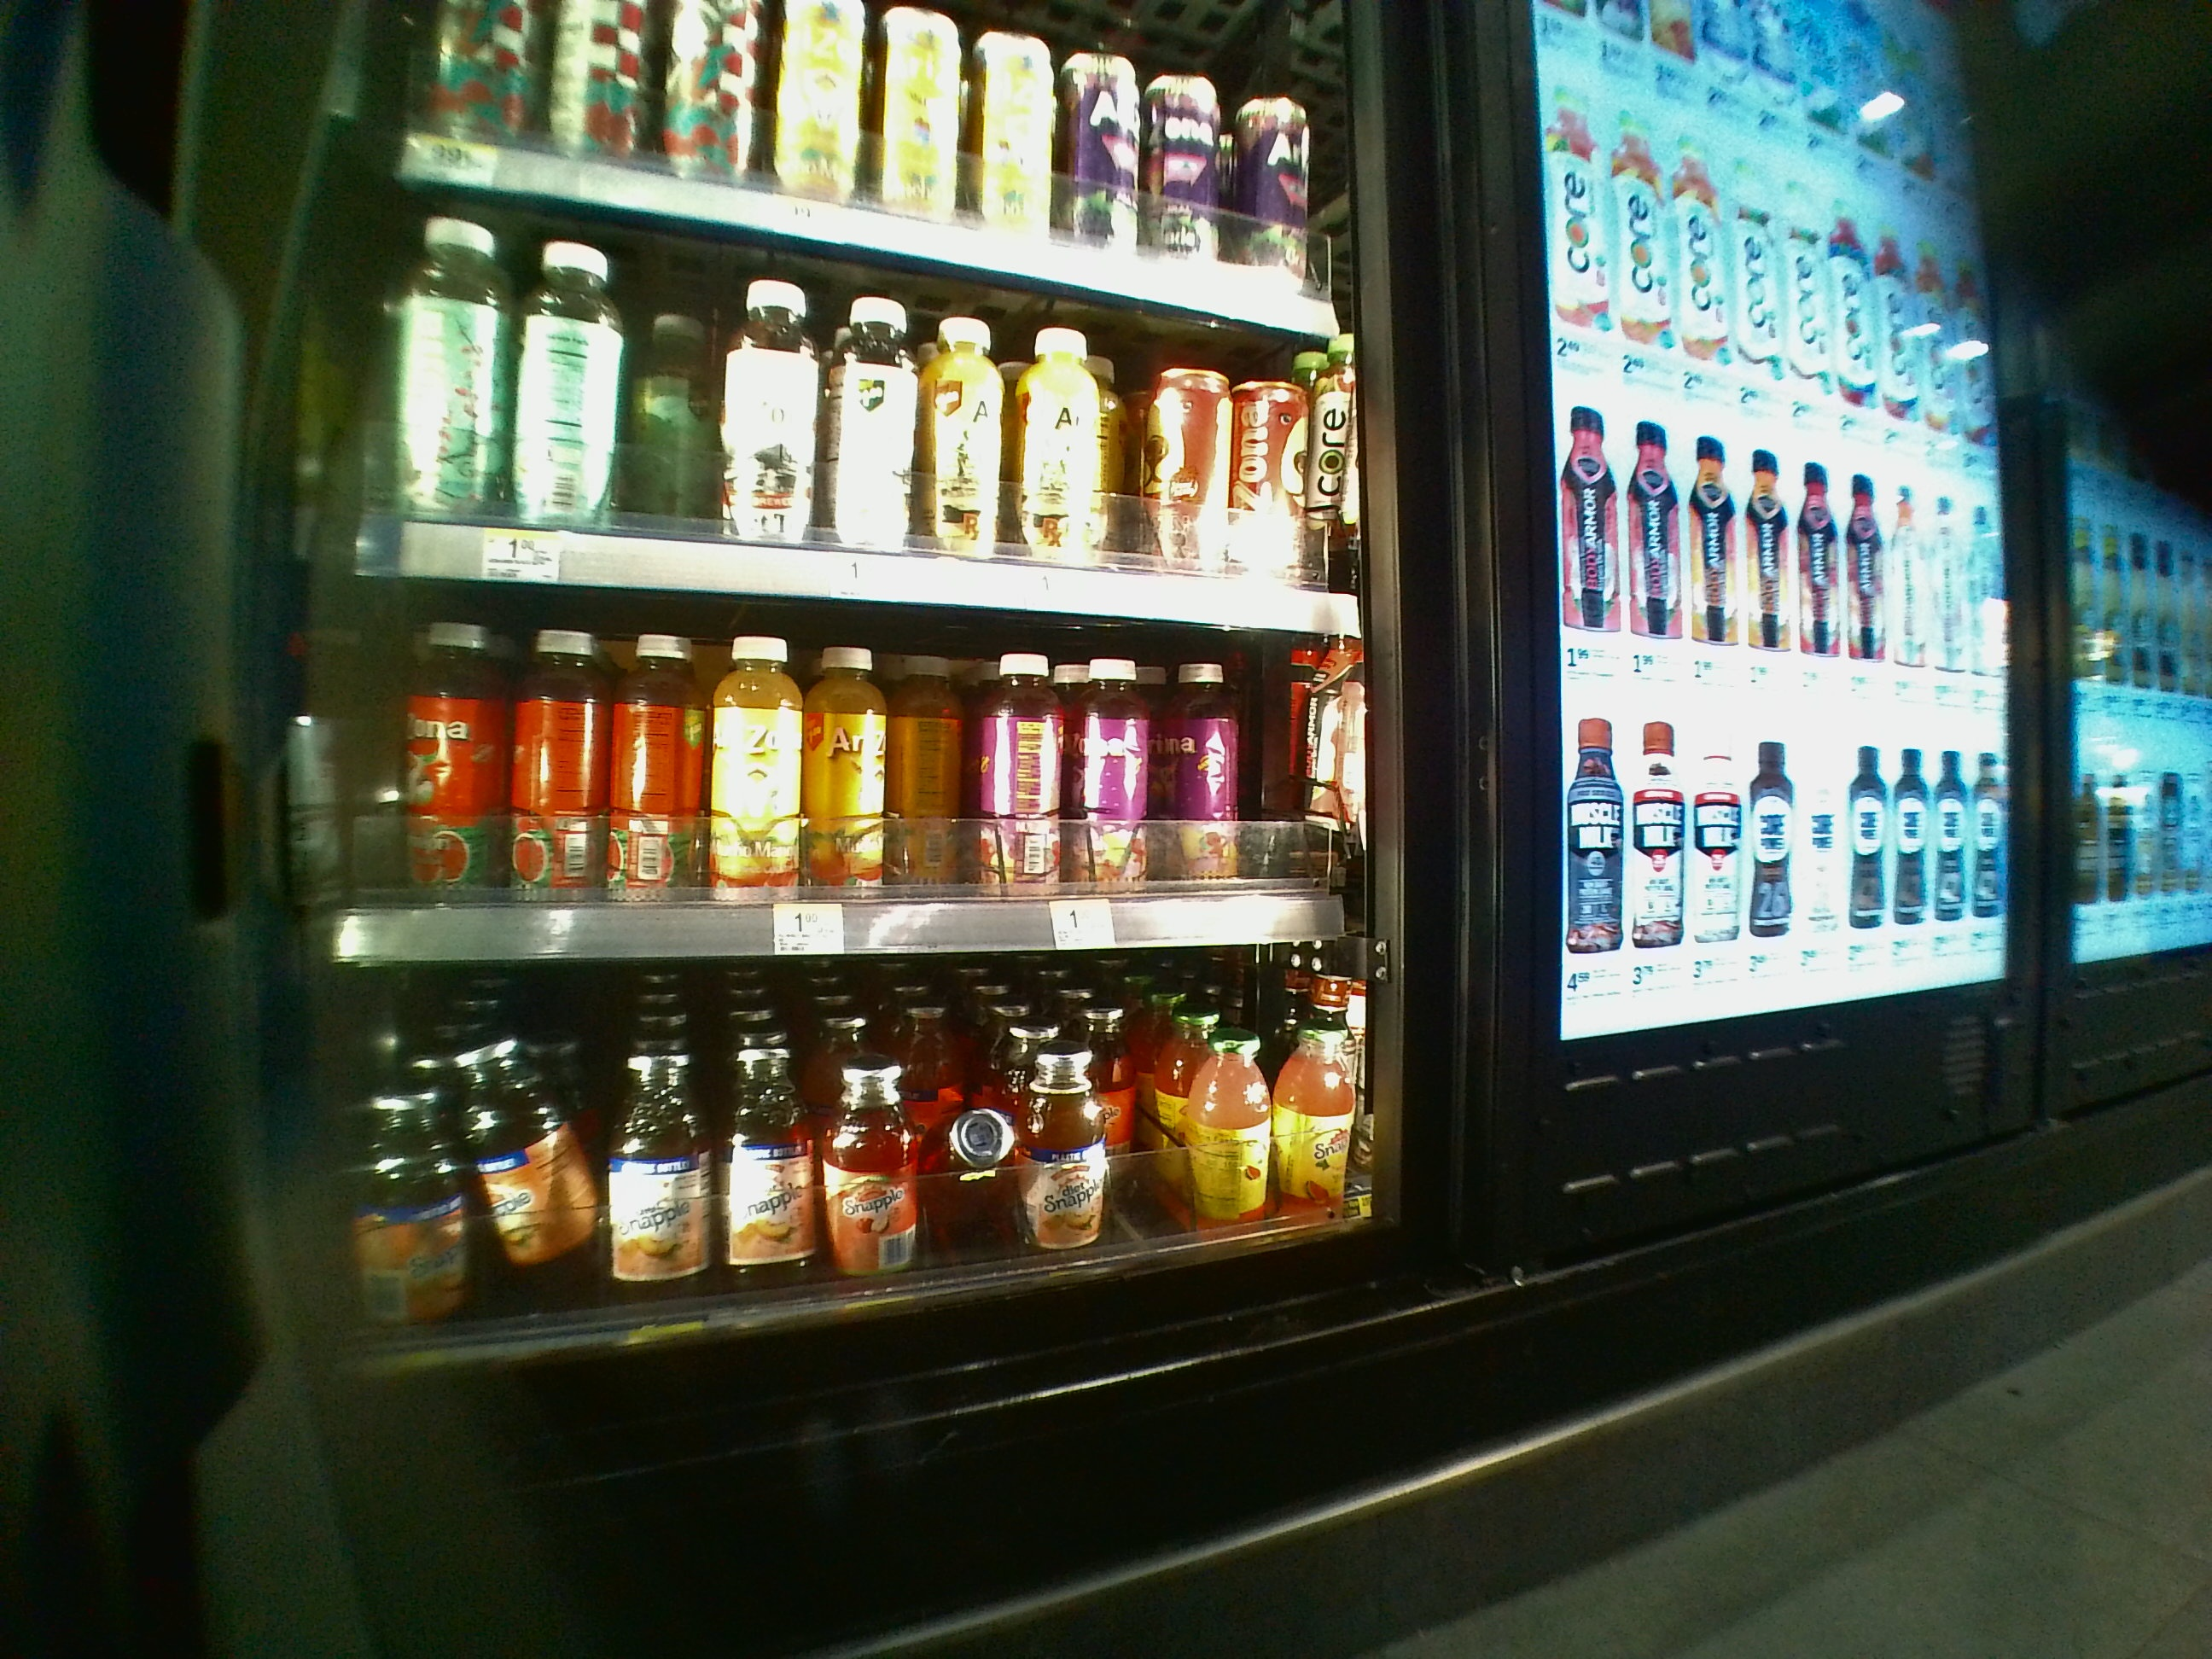shelf: (341, 573, 1367, 955), (341, 967, 1374, 1337)
